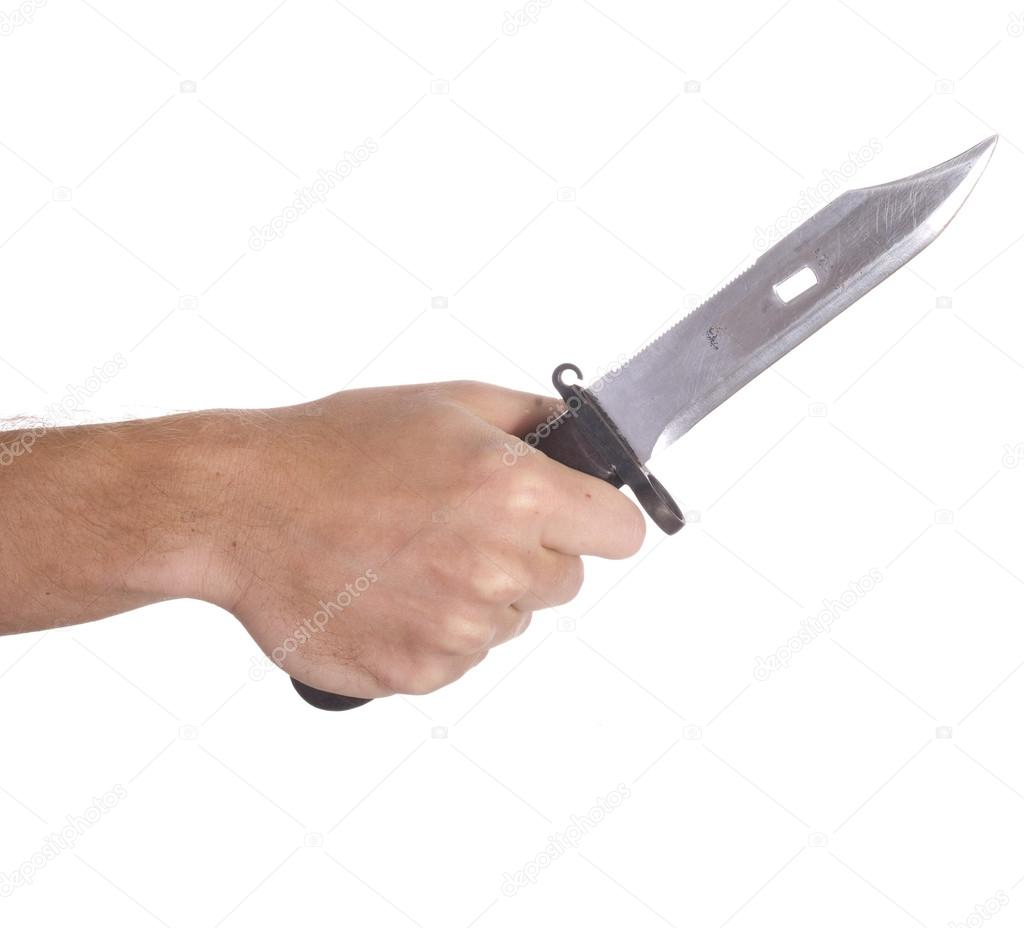knife: (455, 118, 1014, 697)
